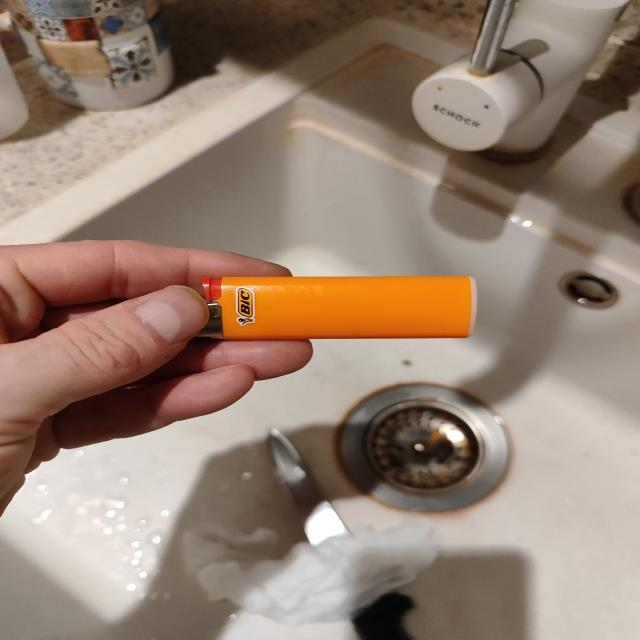lighter: (200, 277, 475, 340)
